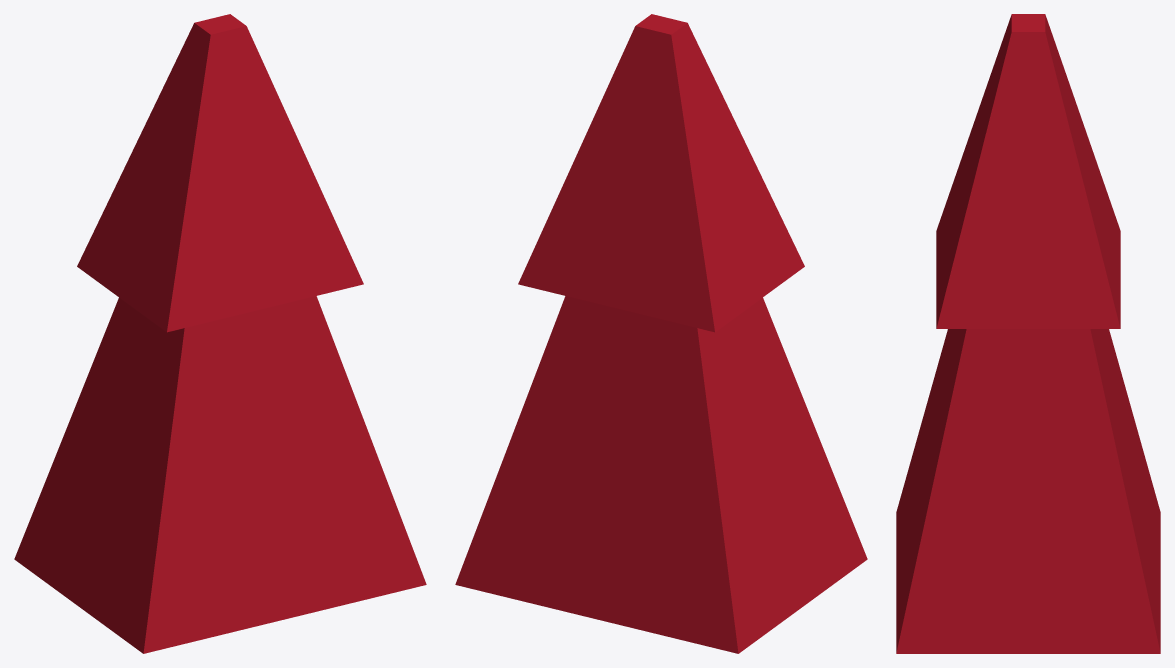
File: tree-dead-leaves-016.glb
The picture shows the model from 3 angles, left to right: view 1: azimuth 30°, elevation 25°; view 2: azimuth 150°, elevation 25°; view 3: azimuth 270°, elevation 25°; orthographic projection. The views are drawn at different scales.
Visible parts, largest first — view 1: Cube.079_450; view 2: Cube.079_450; view 3: Cube.079_450.
Part boxes in pixels (<box>): Cube.079_450: <box>14,14,426,653</box>; Cube.079_450: <box>455,14,867,653</box>; Cube.079_450: <box>896,14,1160,653</box>.
Size of the model in its own units: 0.3995 by 0.7381 by 0.3157.
